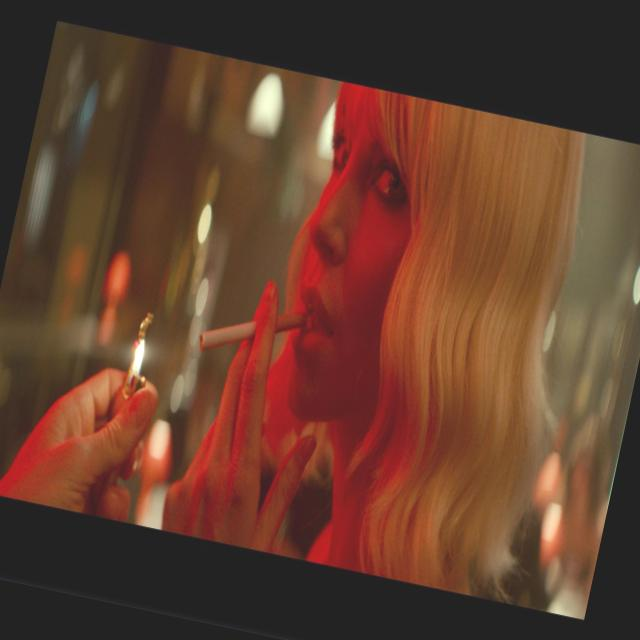smoke: (176, 255, 324, 413)
